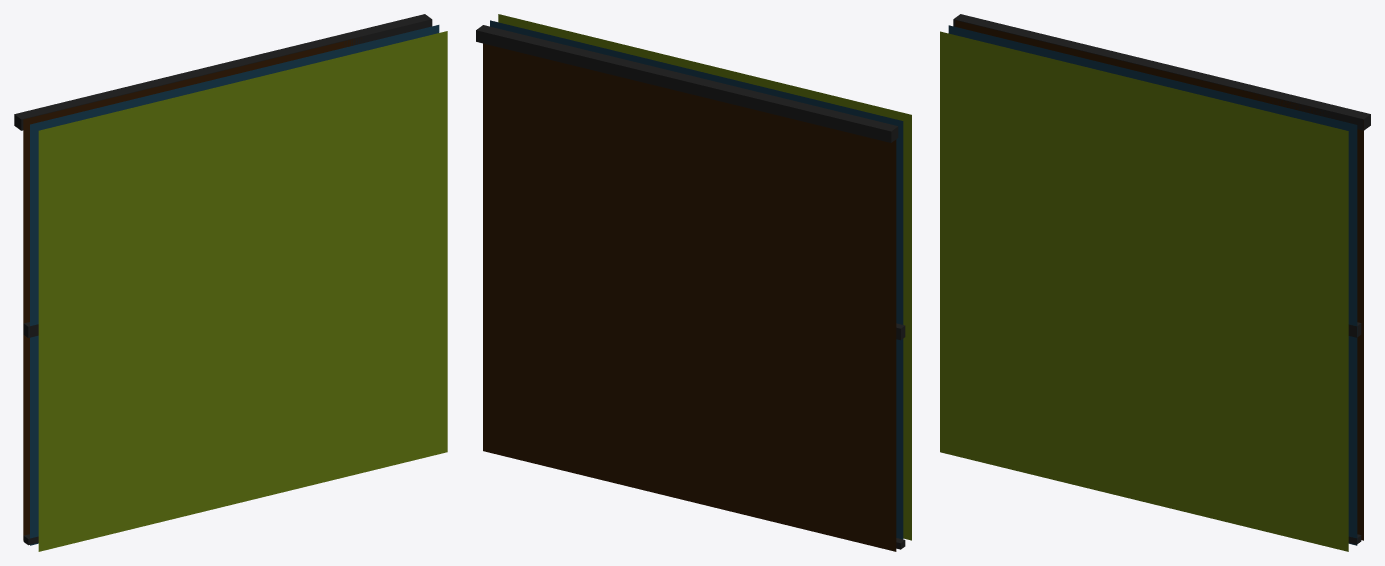
File: RE_CellWindows.FBX
3 renders of one model, left to right at view 1: azimuth 30°, elevation 25°; view 2: azimuth 150°, elevation 25°; view 3: azimuth 330°, elevation 25°, orthographic.
Visible parts, largest first — view 1: RE_CellWindows; view 2: RE_CellWindows; view 3: RE_CellWindows.
Part boxes in pixels (x1,y1,x2,y2): RE_CellWindows: (14, 14, 447, 551); RE_CellWindows: (476, 14, 911, 551); RE_CellWindows: (940, 14, 1370, 551).
Bounding box in the file's own units: 72.92 × 71.48 × 6.92.
